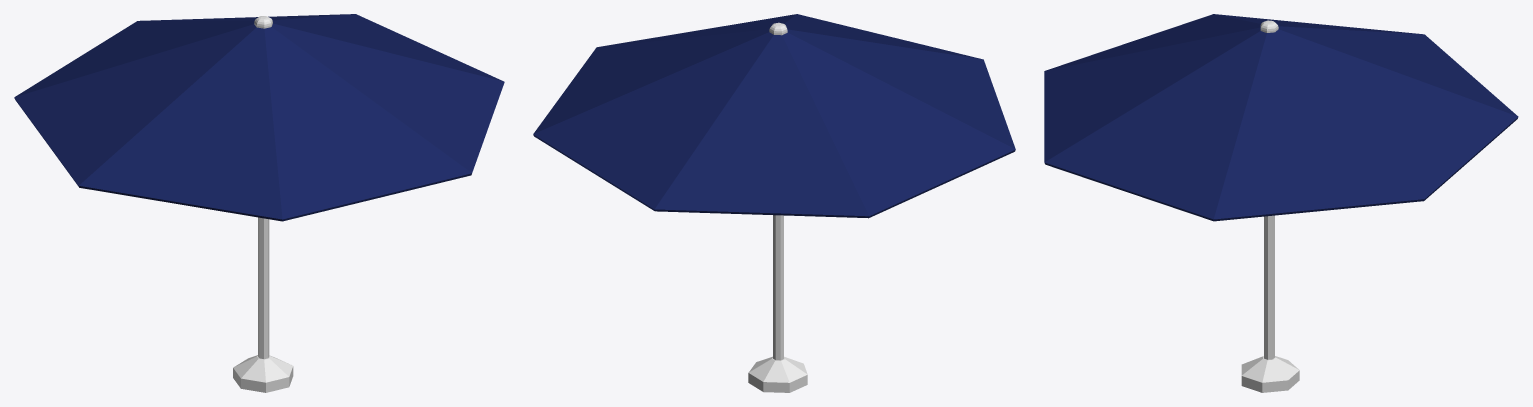
The model's file is parasoll.fbx.
3 renders of one model, left to right at view 1: azimuth 30°, elevation 25°; view 2: azimuth 150°, elevation 25°; view 3: azimuth 270°, elevation 25°, orthographic.
Parts seen in each view (by area): view 1: Circle.002; view 2: Circle.002; view 3: Circle.002.
Boxes of the visible parts, left/top/right/bottom form: Circle.002: left=14, top=14, right=504, bottom=392; Circle.002: left=533, top=14, right=1015, bottom=392; Circle.002: left=1044, top=14, right=1518, bottom=392.
Size of the model in its own units: 449 by 365 by 438.
